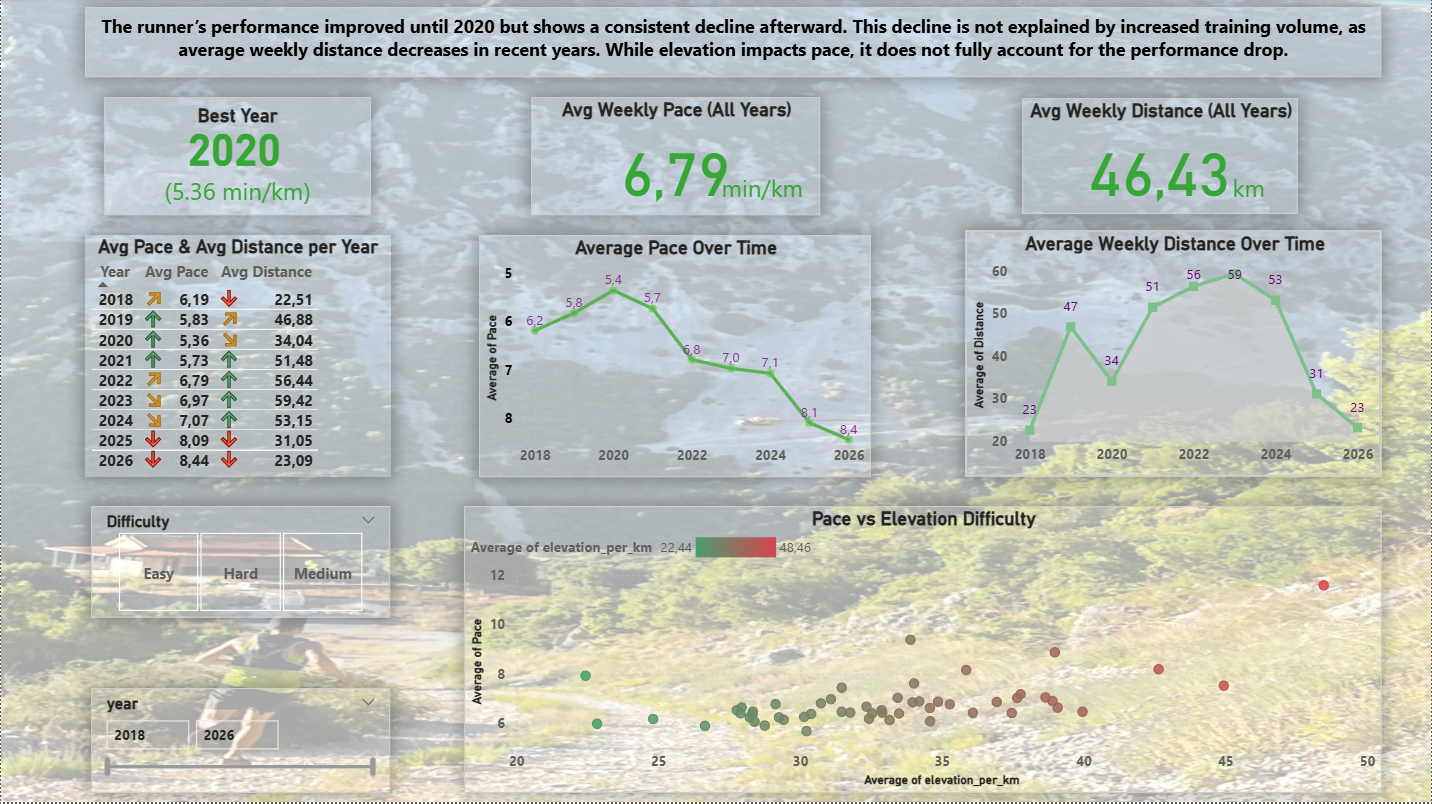

Layout of this report page (visuals, bound fields, positions):
{"tool":"powerbi","page":{"name":"Page 1","canvas":[1280,720],"ordinal":0},"visuals":[{"type":"lineChart","title":"Average Pace Over Time","fields":{"Category":["running_analysis weekly_data.year"],"Y":["Avg(running_analysis weekly_data.Pace)"]},"box":[428,212,351.1,216.9],"z":0},{"type":"areaChart","title":"Average Weekly Distance Over Time","fields":{"Category":["running_analysis weekly_data.year"],"Y":["Avg(running_analysis weekly_data.Distance)"]},"box":[863.7,208.1,372.5,220.8],"z":1000},{"type":"scatterChart","title":"Pace vs Elevation Difficulty","fields":{"X":["Avg(running_analysis weekly_data.elevation_per_km)"],"Y":["Avg(running_analysis weekly_data.Pace)"],"Category":["running_analysis weekly_data.week"]},"box":[414.3,455.2,821.9,256.8],"z":2000},{"type":"card","title":"Avg Weekly Pace (All Years)","fields":{"Values":["Avg(running_analysis weekly_data.Pace)"]},"box":[474.7,88.5,258.7,106],"z":3000},{"type":"card","title":"Avg Weekly Distance (All Years)","fields":{"Values":["Avg(running_analysis weekly_data.Distance)"]},"box":[914.3,89.5,247.1,104.1],"z":4000},{"type":"tableEx","title":"Avg Pace & Avg Distance per Year","fields":{"Values":["running_analysis weekly_data.year","Avg(running_analysis weekly_data.Pace)","Avg(running_analysis weekly_data.Distance)"]},"box":[74.9,212,274.3,216.9],"z":5000},{"type":"textbox","box":[92.4,88.5,239.3,106],"z":6000},{"type":"textbox","box":[640,150.8,93.4,44.7],"z":7000},{"type":"textbox","box":[1098.1,150.8,51.6,42.8],"z":8000},{"type":"textbox","box":[74.9,7.8,1161.3,63.2],"z":9000},{"type":"slicer","fields":{"Values":["running_analysis weekly_data.Difficulty"]},"box":[80.7,455.2,268.4,100.2],"z":10000},{"type":"slicer","fields":{"Values":["running_analysis weekly_data.year"]},"box":[80.7,617.6,268.4,94.3],"z":11000}]}

Visuals, with their boxes in screenshot pixels (x1, y1, x2, y2), scaled from the page's 1280x720 canvas onto the 1432x804 screenshot:
"Average Pace Over Time" lineChart: detection(479, 237, 872, 479)
"Average Weekly Distance Over Time" areaChart: detection(966, 232, 1383, 479)
"Pace vs Elevation Difficulty" scatterChart: detection(463, 508, 1383, 795)
"Avg Weekly Pace (All Years)" card: detection(531, 99, 820, 217)
"Avg Weekly Distance (All Years)" card: detection(1023, 100, 1299, 216)
"Avg Pace & Avg Distance per Year" tableEx: detection(84, 237, 391, 479)
textbox: detection(103, 99, 371, 217)
textbox: detection(716, 168, 820, 218)
textbox: detection(1228, 168, 1286, 216)
textbox: detection(84, 9, 1383, 79)
slicer - running_analysis weekly_data.Difficulty: detection(90, 508, 391, 620)
slicer - running_analysis weekly_data.year: detection(90, 690, 391, 795)
